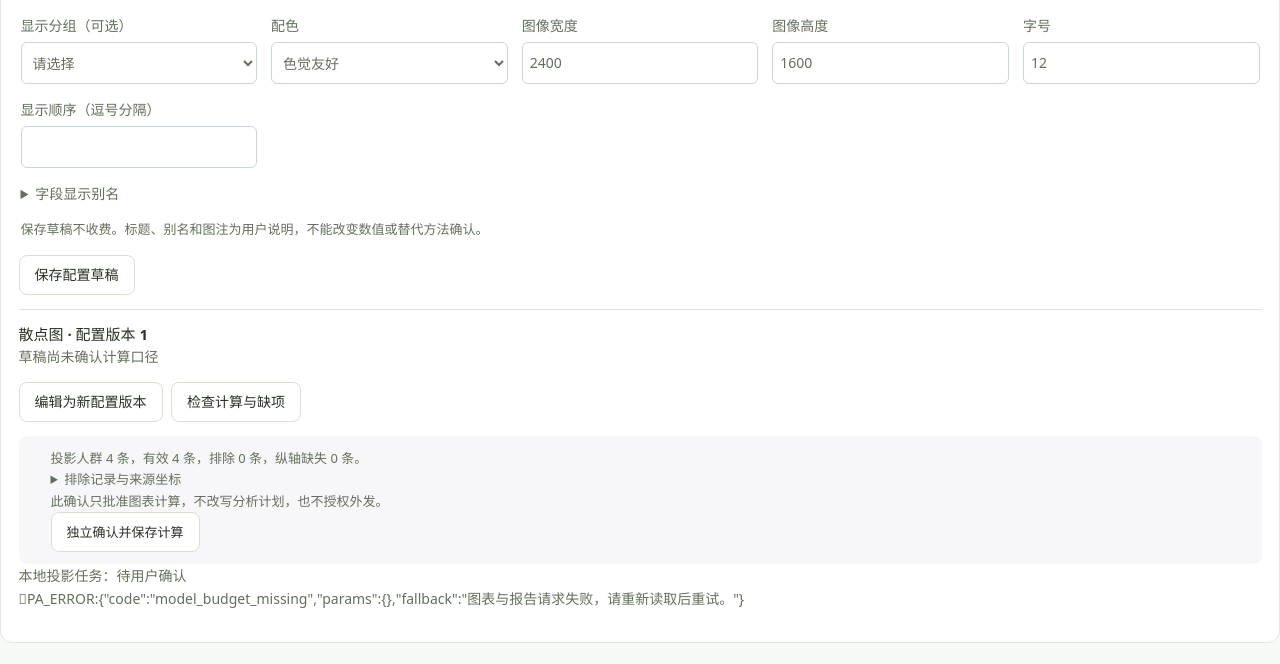
Test: a persisted worker candidate can be independently approved after refresh without paid consent
The image size is (1280, 664).
(page scrolled)
Click the button "独立确认并保存计算".
click(125, 532)  # box left=50, top=512, right=200, bottom=552
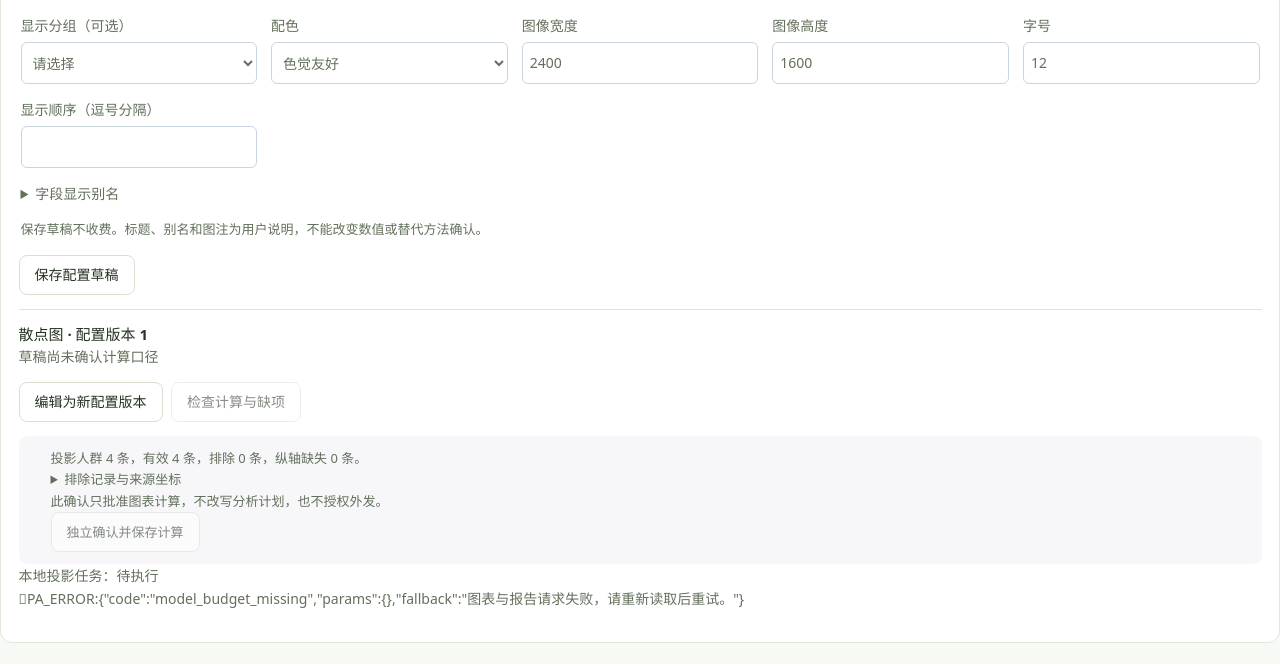
Expected: the text "本地投影任务：待执行" is shown, left=18, top=566, right=158, bottom=585
